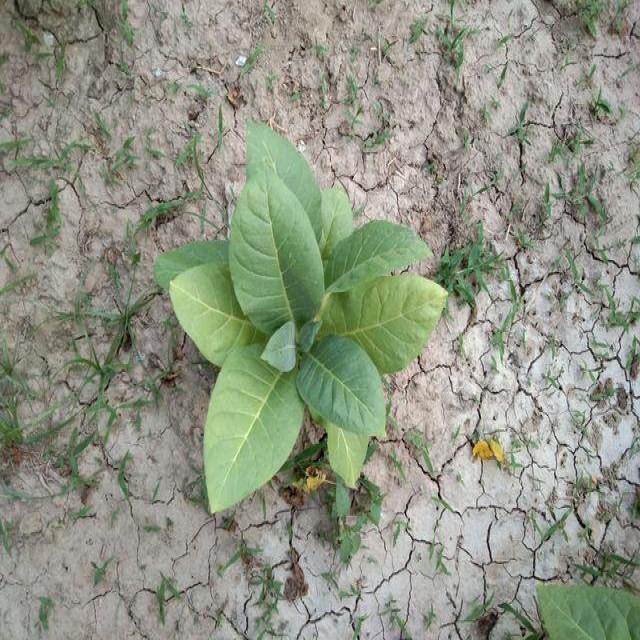crop: (156, 122, 452, 524), (524, 581, 639, 640)
